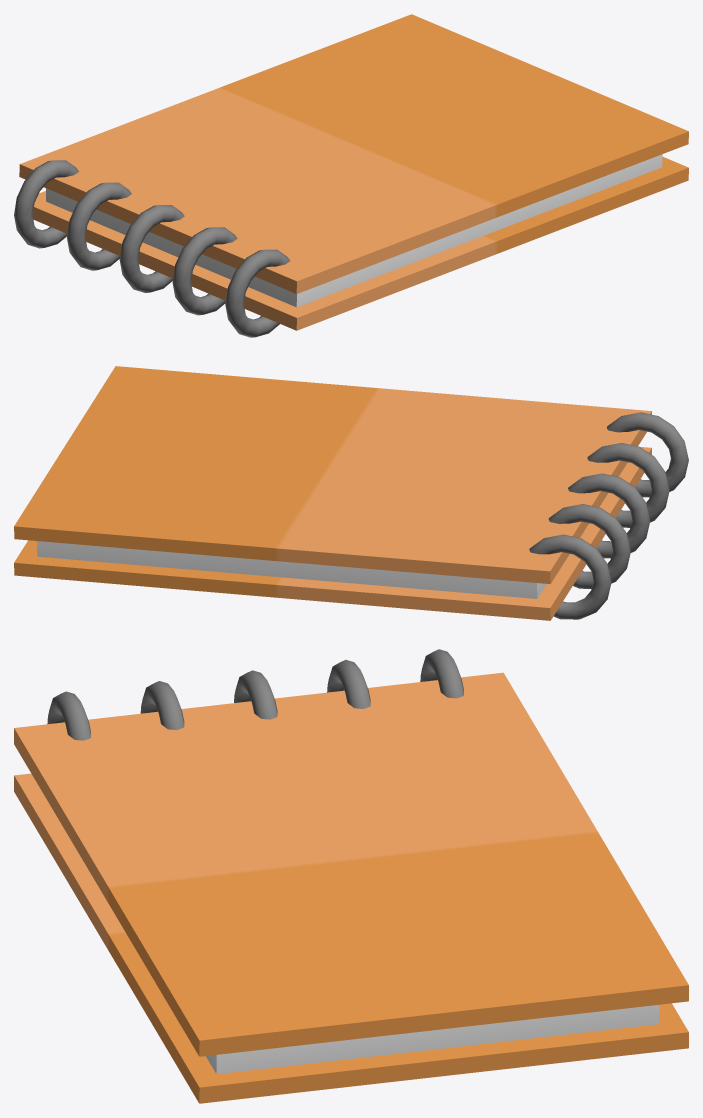
File: BlocknoteA4.FBX
3 views of the same model, one above another, from view 1: azimuth 30°, elevation 25°; view 2: azimuth 150°, elevation 25°; view 3: azimuth 270°, elevation 25° (orthographic). The views are drawn at different scales.
Visible parts, largest first — view 1: BookNote_A4; view 2: BookNote_A4; view 3: BookNote_A4.
Boxes of the visible parts, bbox=[...] form: BookNote_A4: bbox=[14, 14, 688, 337]; BookNote_A4: bbox=[14, 366, 688, 620]; BookNote_A4: bbox=[14, 649, 688, 1103].
Bounding box in the file's own units: 14.21 × 1.96 × 11.01.
